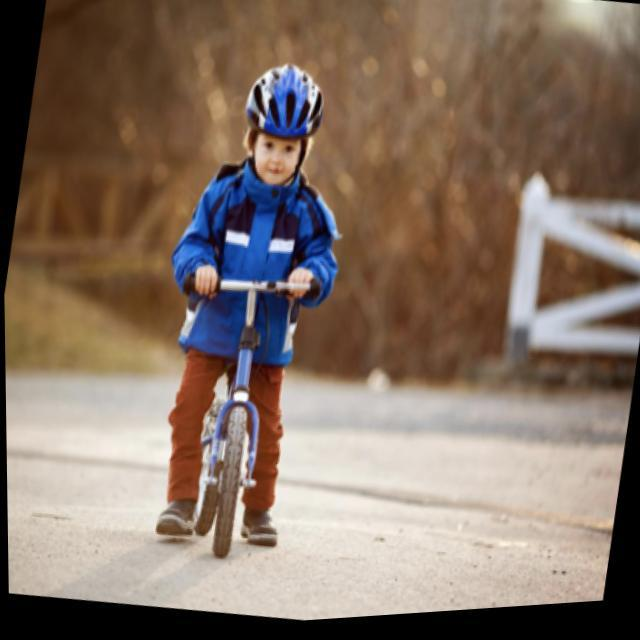Helmet: (235, 61, 325, 196)
